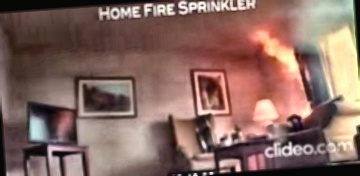fire: (249, 19, 314, 87)
